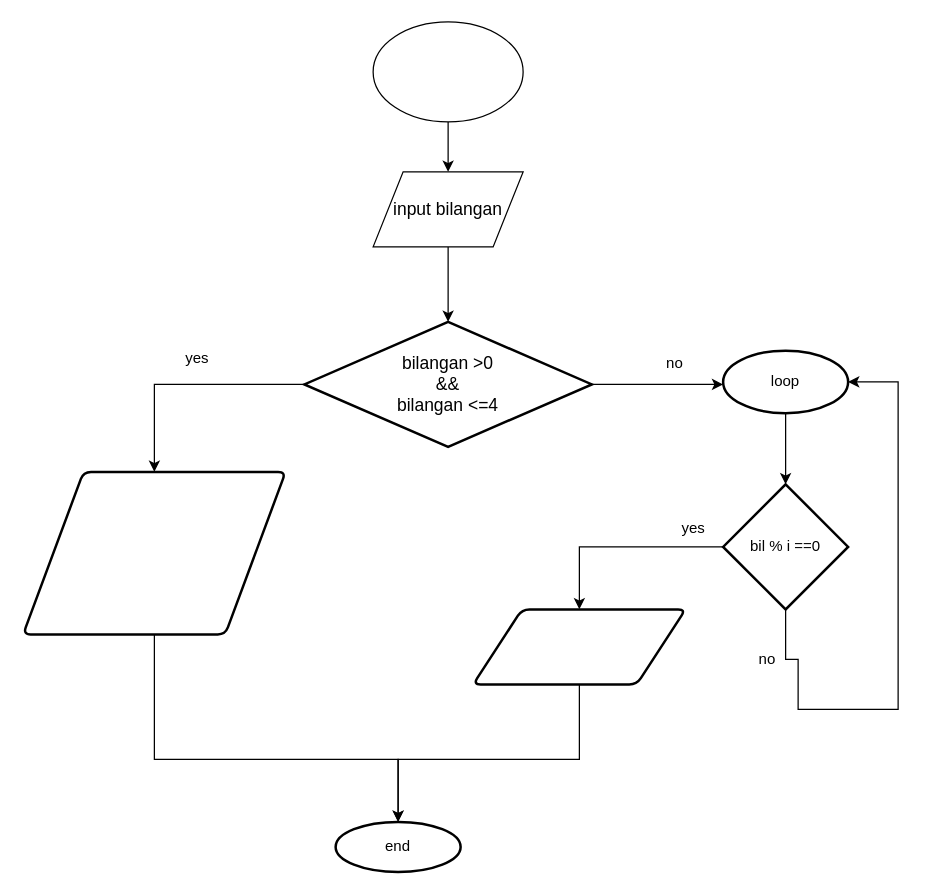
The diagram is 930 pixels wide and 895 high, and some of its shapes have lost their labels. The shapes that lost their labels are listed below. From the top down, each one's box as (x1, y1, x2, y2) in pixels, then its label:
(372, 21, 523, 122): start
(21, 470, 286, 635): "pembagi terkecil ="+bil
(471, 608, 686, 685): "pembagi terkecil ="+i
